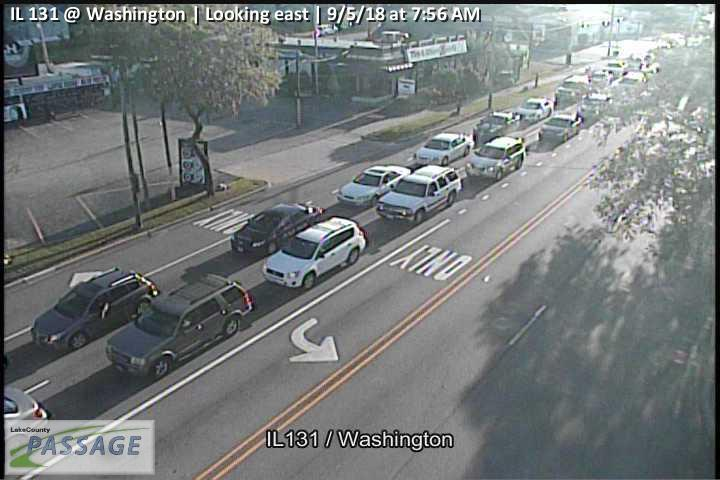SUV: (29, 269, 158, 350), (261, 216, 367, 290), (376, 164, 462, 223), (470, 134, 526, 179)
Sedan: (104, 271, 253, 376), (229, 203, 326, 254), (336, 164, 412, 206), (412, 132, 475, 165), (538, 113, 583, 143), (472, 112, 521, 139), (516, 95, 555, 124)
